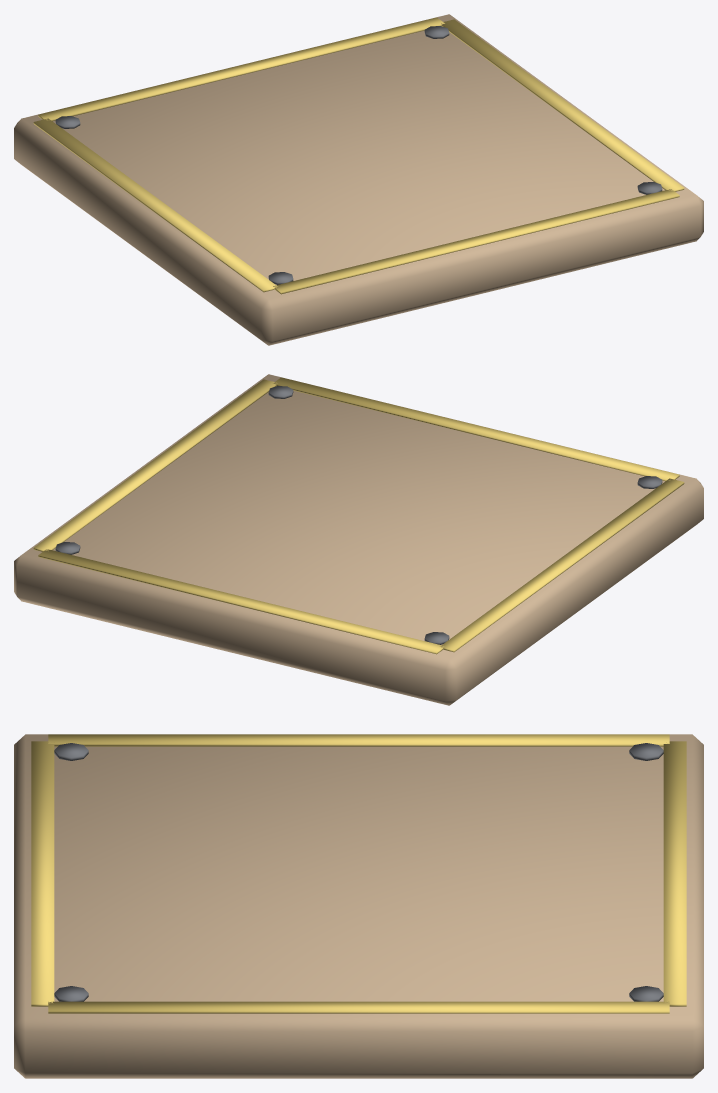
The model's file is pad.glb.
3 renders of one model, top to bottom at view 1: azimuth 30°, elevation 25°; view 2: azimuth 150°, elevation 25°; view 3: azimuth 270°, elevation 25°, orthographic. The views are drawn at different scales.
Parts seen in each view (by area): view 1: pad; view 2: pad; view 3: pad.
Part boxes in pixels (x1,y1,x2,y2): pad: [14, 14, 703, 345]; pad: [14, 374, 703, 705]; pad: [14, 734, 703, 1078].
Size of the model in its own units: 1.2 by 0.127 by 1.2.
